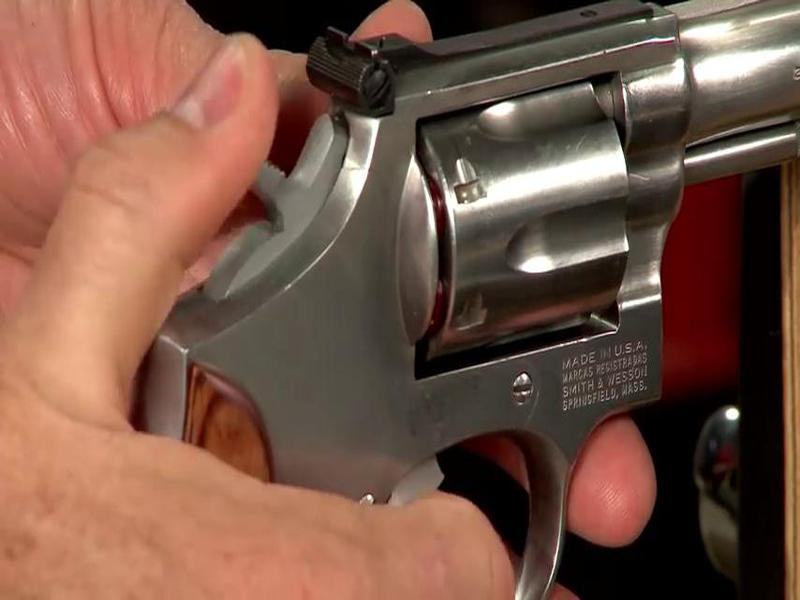Revolver: (116, 2, 800, 520)
